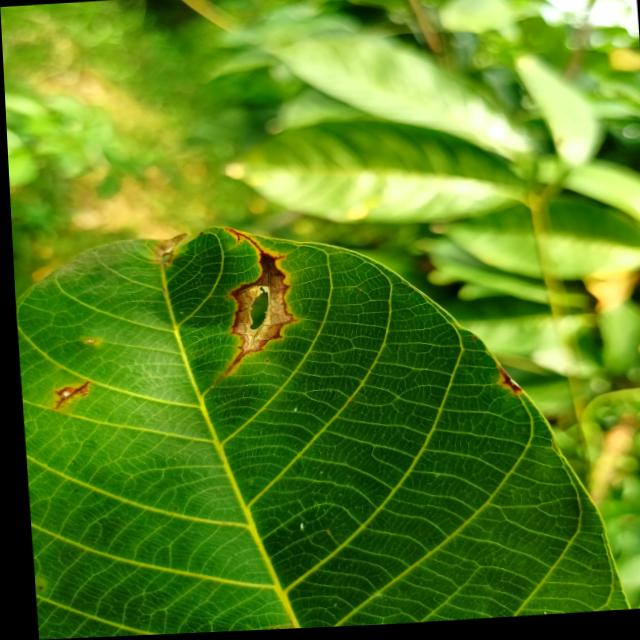Corynespora: (214, 225, 302, 373), (45, 380, 89, 410)
